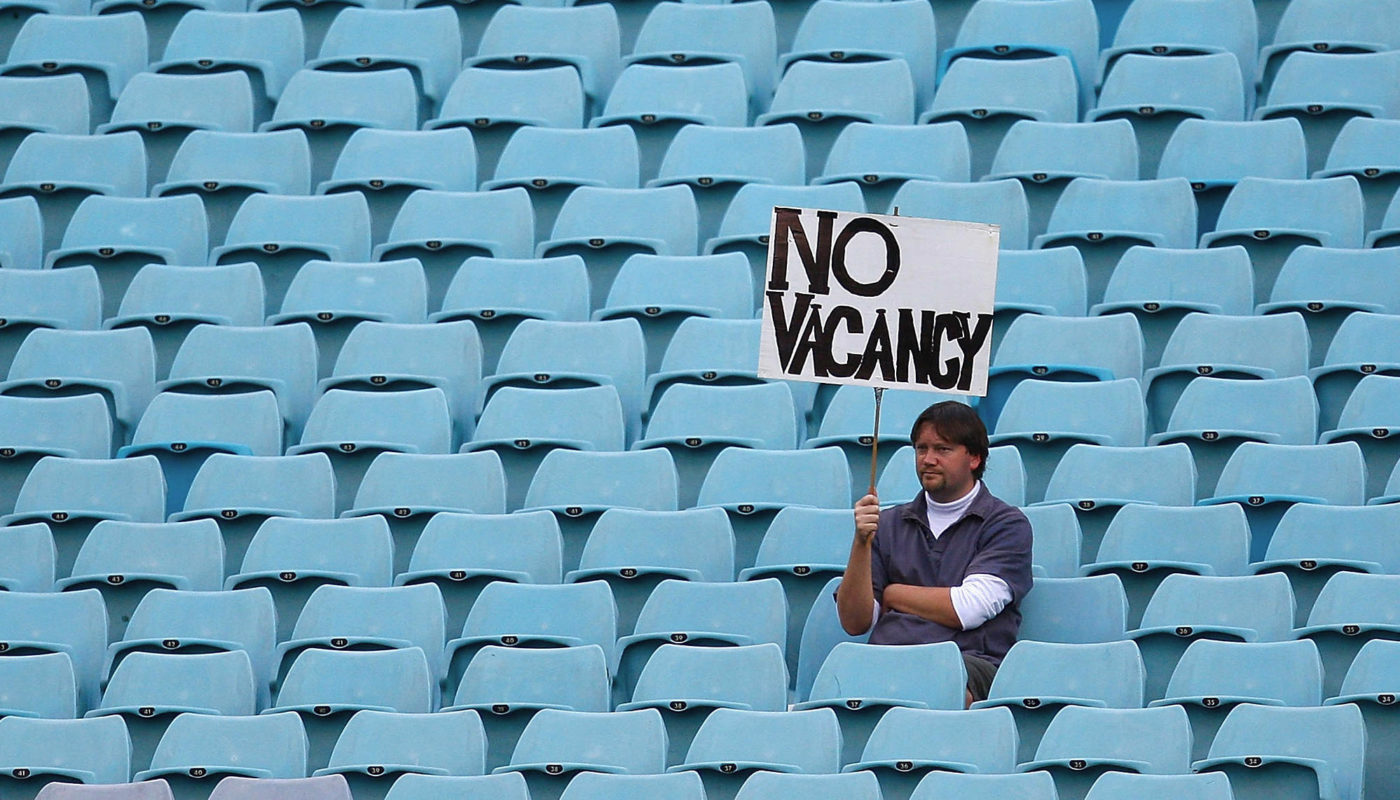Person: (834, 399, 1032, 645)
